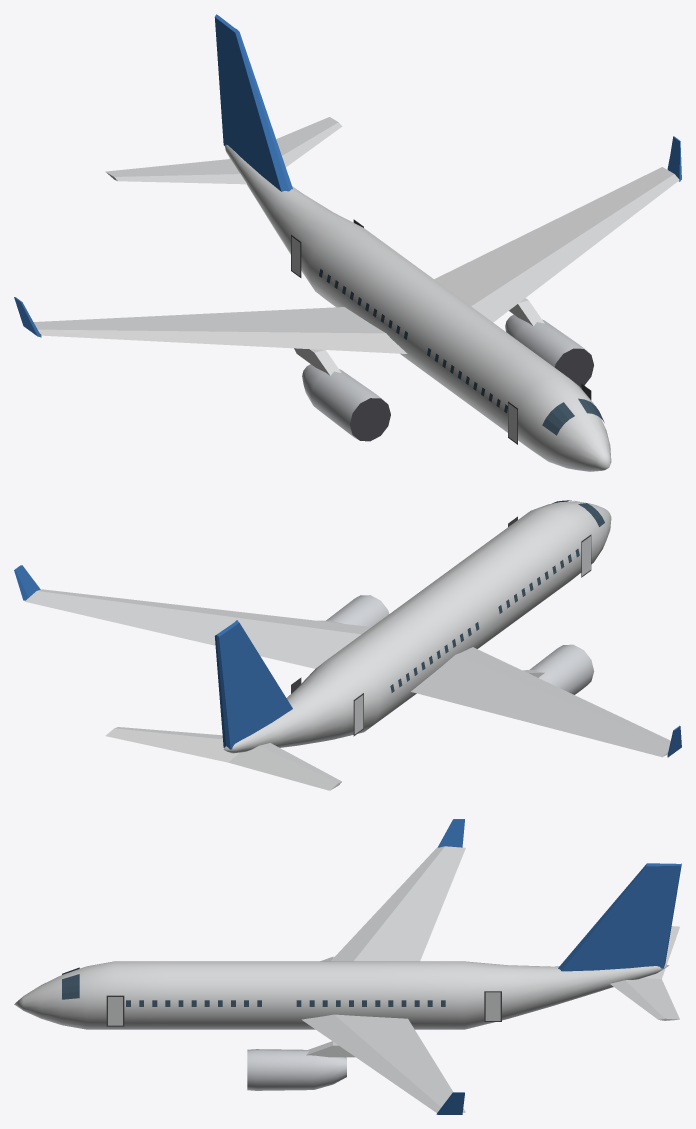
Rendered from ambient_airliner.fbx.
3 renders of one model, top to bottom at view 1: azimuth 30°, elevation 25°; view 2: azimuth 150°, elevation 25°; view 3: azimuth 270°, elevation 25°, orthographic. The views are drawn at different scales.
Parts seen in each view (by area): view 1: ambient_airliner; view 2: ambient_airliner; view 3: ambient_airliner.
Part boxes in pixels (x1=…): ambient_airliner: x1=14, y1=14, x2=681, y2=471; ambient_airliner: x1=14, y1=500, x2=681, y2=790; ambient_airliner: x1=14, y1=819, x2=681, y2=1114.
Size of the model in its own units: 37.04 by 11.59 by 38.2.
